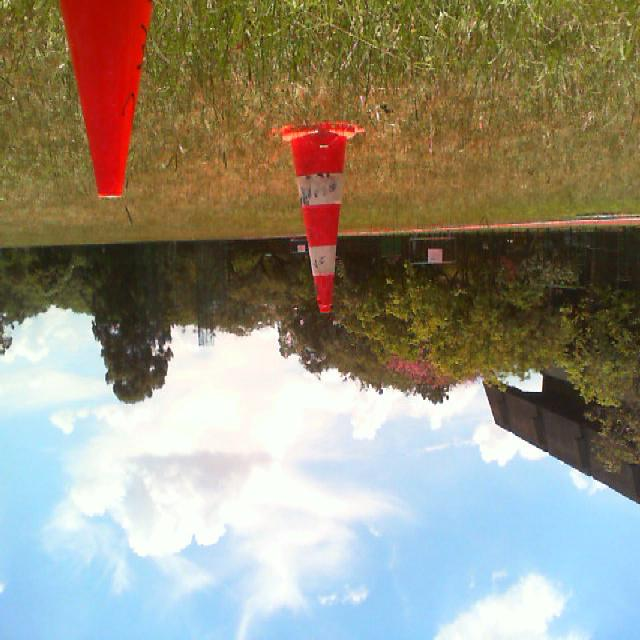cone: (58, 0, 155, 196), (270, 124, 366, 313)
